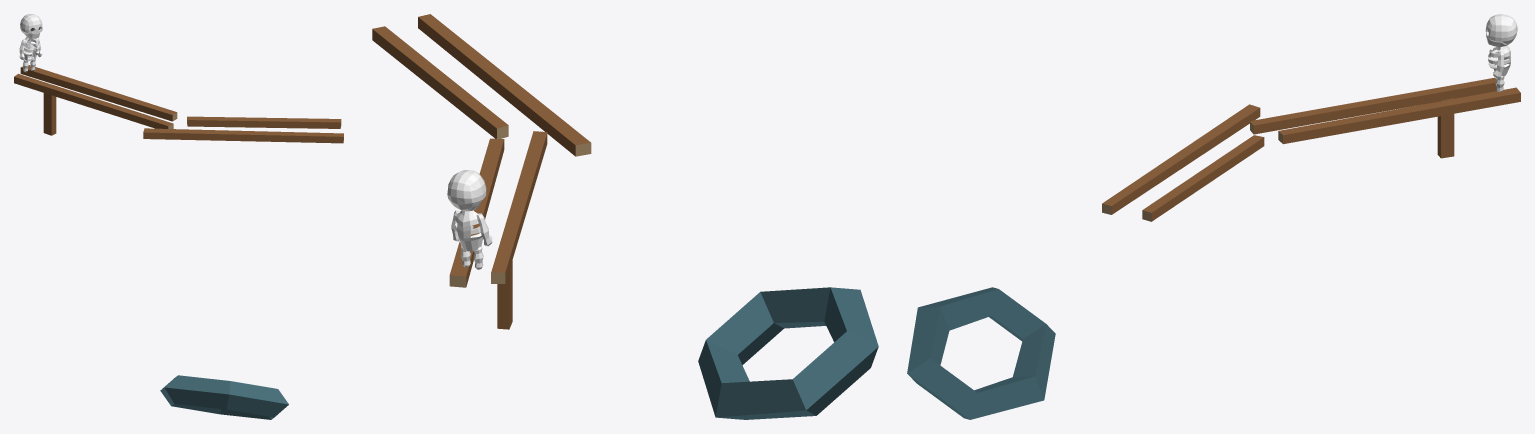
The picture shows the model from 3 angles, left to right: view 1: azimuth 30°, elevation 25°; view 2: azimuth 150°, elevation 25°; view 3: azimuth 270°, elevation 25°; orthographic projection. The views are drawn at different scales.
Parts seen in each view (by area): view 1: Plane261_brown_0, Torus033_metal_0, Box627_brown_0, Head092_white_0, Sphere159_white_0; view 2: Torus033_metal_0, Plane261_brown_0, Head092_white_0, Sphere159_white_0, Box627_brown_0, Plane261_brown2_0; view 3: Plane261_brown_0, Torus033_metal_0, Head092_white_0, Box627_brown_0.
Part boxes in pixels (left/top/right/bottom): Plane261_brown_0: left=14, top=65, right=343, bottom=143; Torus033_metal_0: left=160, top=375, right=288, bottom=419; Box627_brown_0: left=43, top=93, right=56, bottom=135; Head092_white_0: left=20, top=14, right=42, bottom=38; Sphere159_white_0: left=23, top=37, right=39, bottom=60; Torus033_metal_0: left=698, top=287, right=878, bottom=419; Plane261_brown_0: left=372, top=14, right=590, bottom=286; Head092_white_0: left=447, top=170, right=486, bottom=211; Sphere159_white_0: left=454, top=210, right=482, bottom=251; Box627_brown_0: left=497, top=260, right=512, bottom=329; Plane261_brown2_0: left=449, top=125, right=591, bottom=287; Plane261_brown_0: left=1102, top=77, right=1520, bottom=221; Torus033_metal_0: left=907, top=287, right=1055, bottom=419; Head092_white_0: left=1485, top=14, right=1517, bottom=46; Box627_brown_0: left=1437, top=98, right=1454, bottom=158.
Bounding box in the file's own units: 751 × 839 × 1239.
